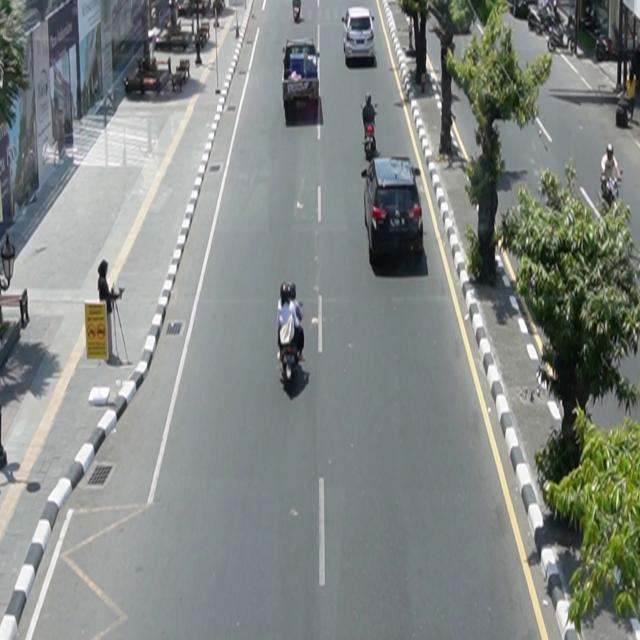car: (362, 156, 425, 264), (283, 38, 321, 109), (342, 7, 376, 61)
